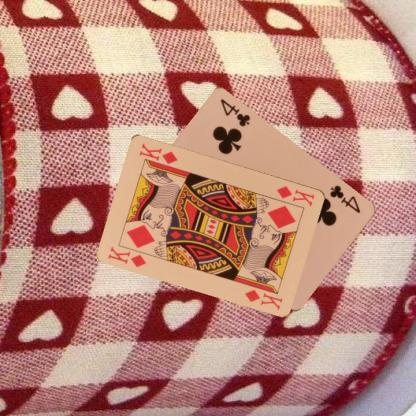4c: (326, 182, 362, 215)
Kd: (105, 243, 148, 269), (274, 183, 316, 208)
